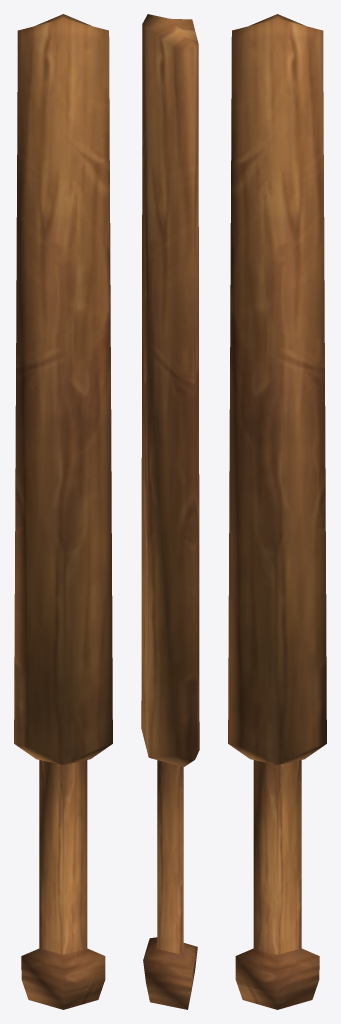
Rendered from Stick.FBX.
3 renders of one model, left to right at view 1: azimuth 90°, elevation 25°; view 2: azimuth 210°, elevation 25°; view 3: azimuth 270°, elevation 25°, orthographic.
Visible parts, largest first — view 1: Stick; view 2: Stick; view 3: Stick.
Boxes of the visible parts, box(x1,y1,x2,y2) form: Stick: box(14, 14, 112, 1009); Stick: box(141, 14, 199, 1009); Stick: box(228, 14, 326, 1009).
Size of the model in its own units: 0.0645 by 1.11 by 0.1006.
